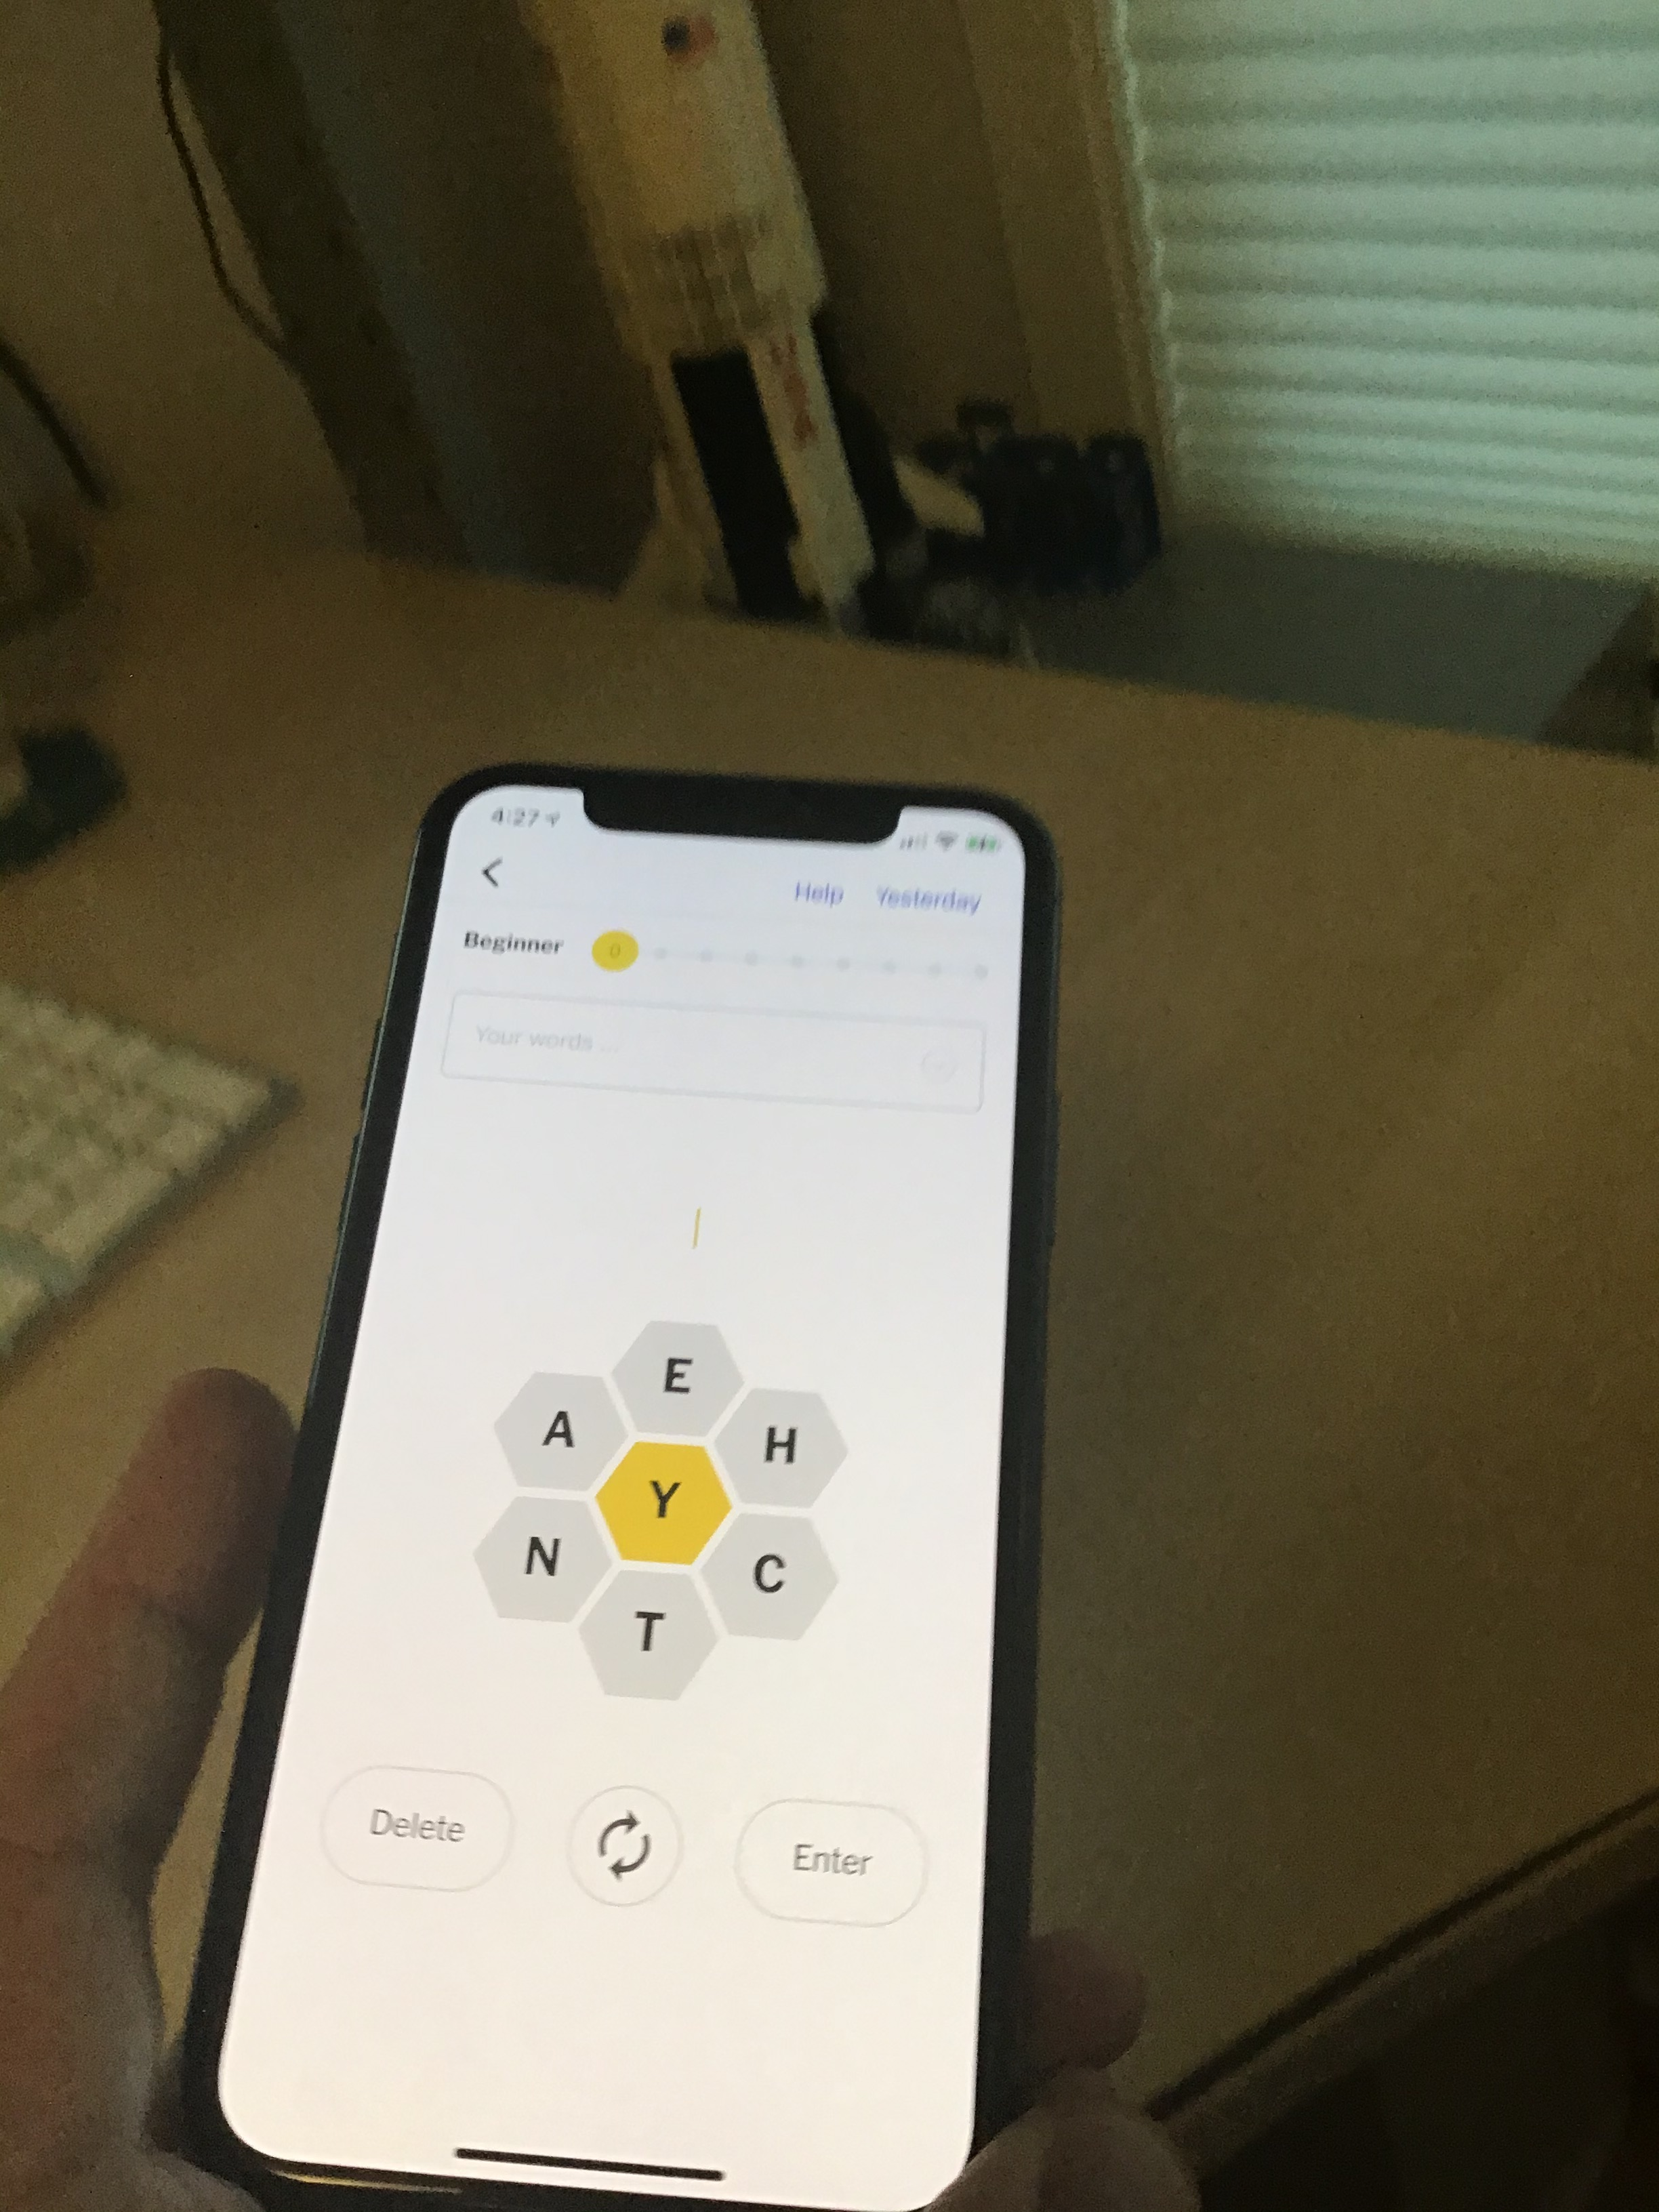Board: (425, 1275, 908, 1754)
